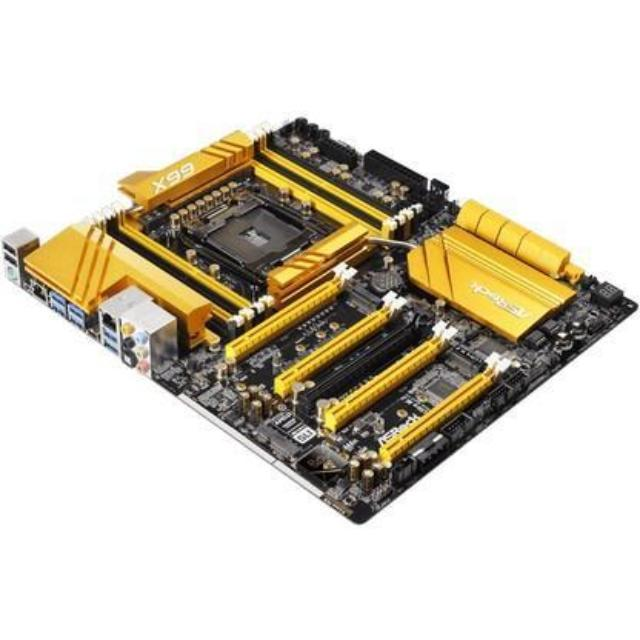Mainboard: (0, 112, 640, 523)
